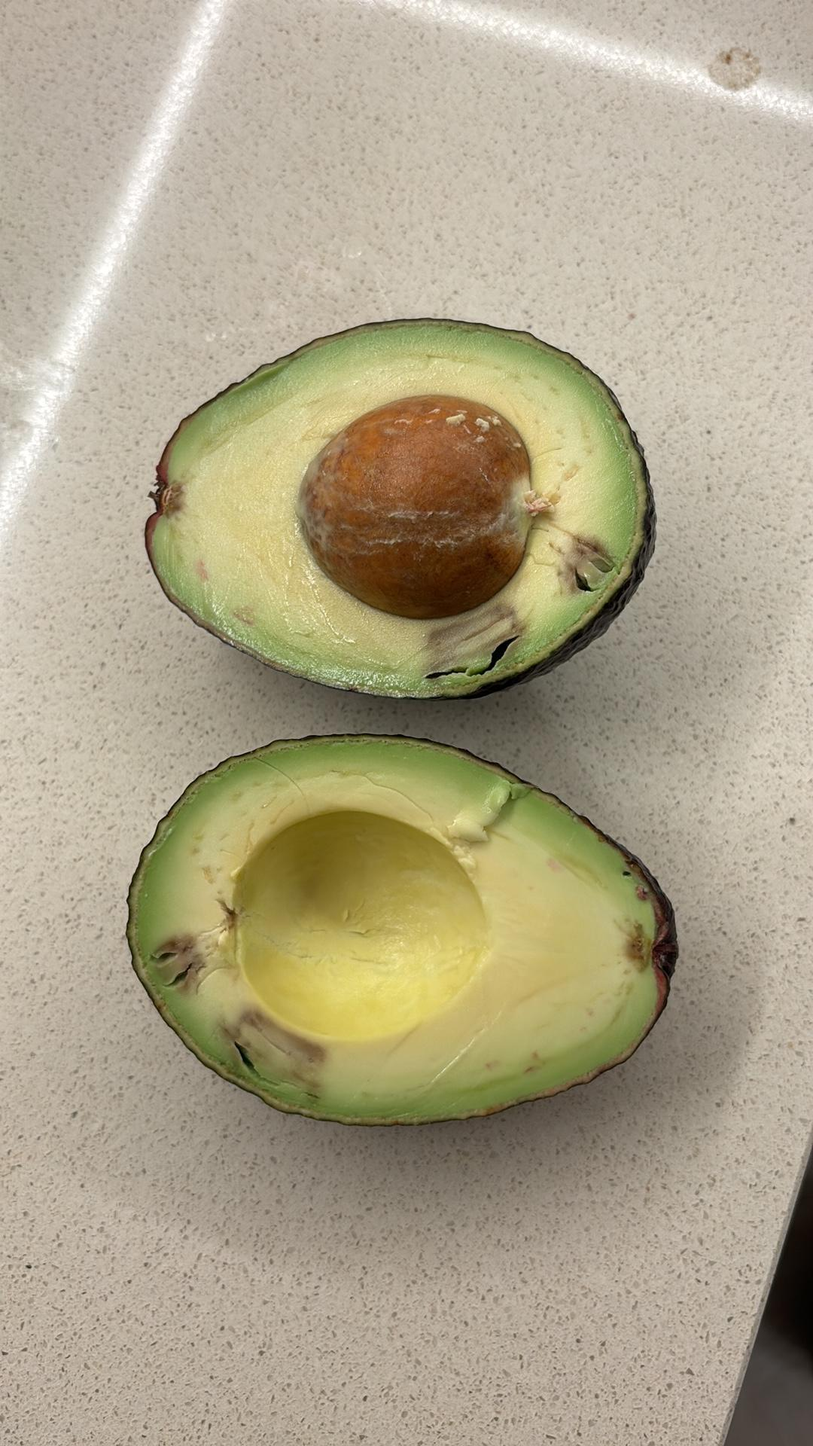avocado: (122, 728, 667, 1126), (143, 311, 661, 714)
